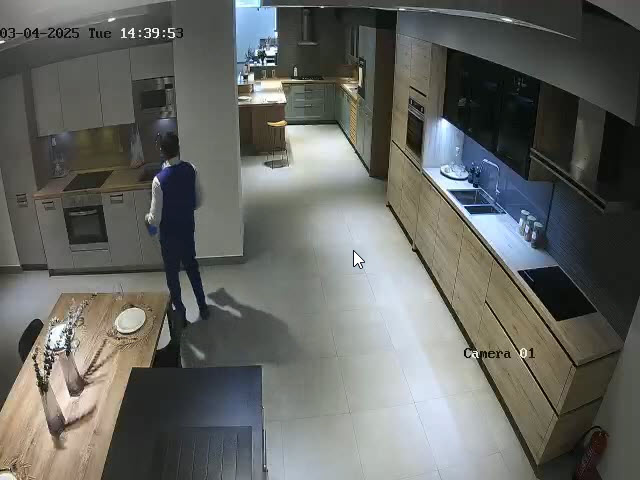employee: (145, 133, 209, 325)
